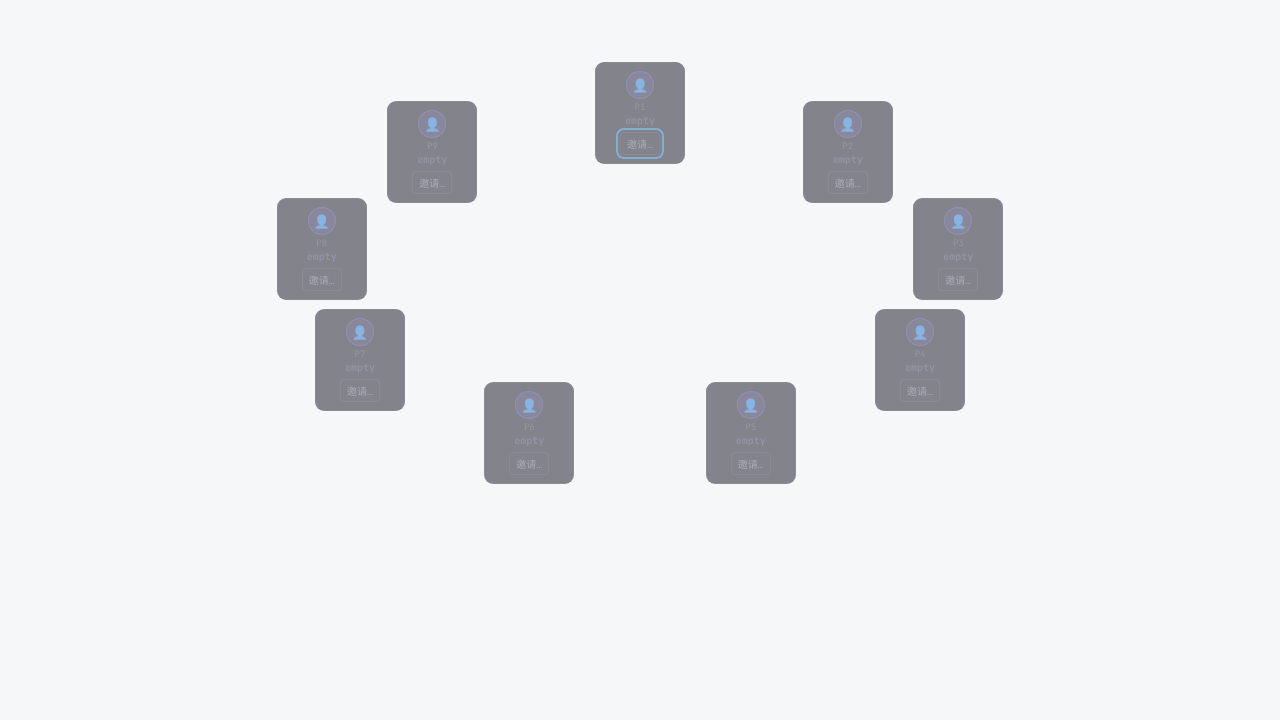
WerewolfTableSurface — popover focus restore (jsdom regression) › restores focus to the invite button when the popover closes via Escape
Click the 1st button with class "ww-seat-invite" at x=640, y=144, box [620, 132, 660, 155]
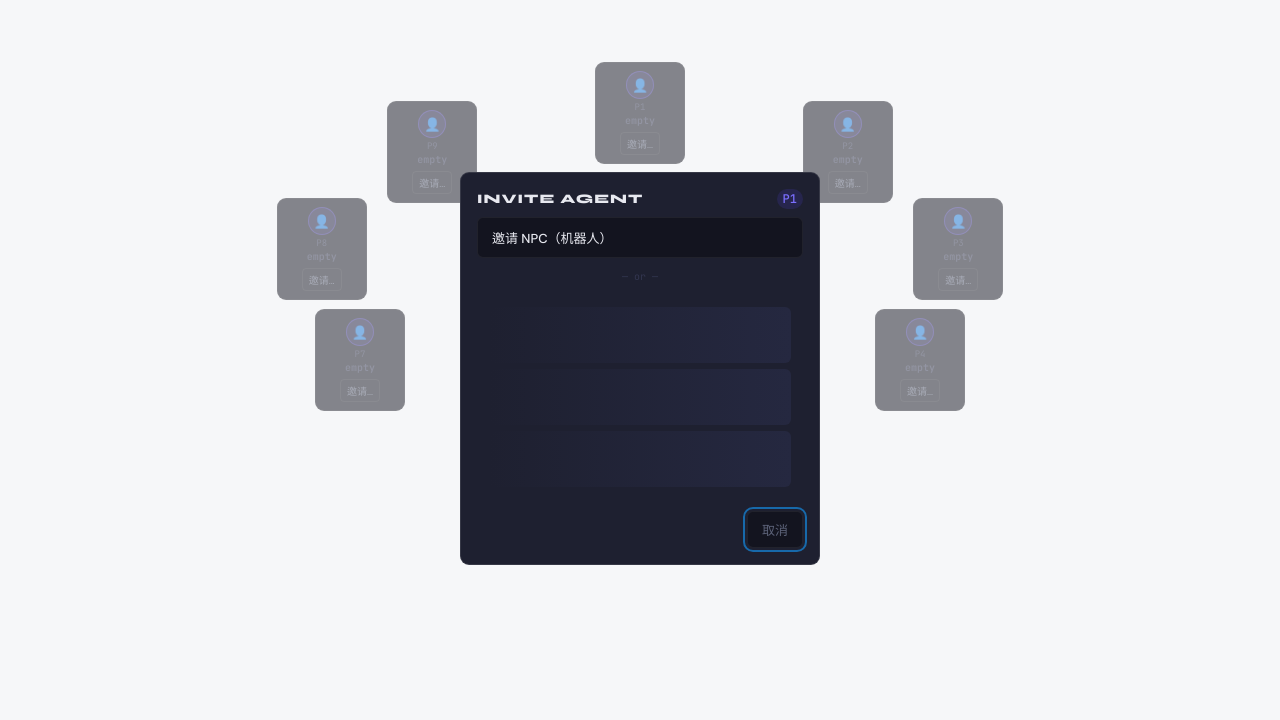
Result: the button with class "ww-agent-picker-cancel" is shown at [747, 511, 803, 548]
Close via Escape.
Press Escape
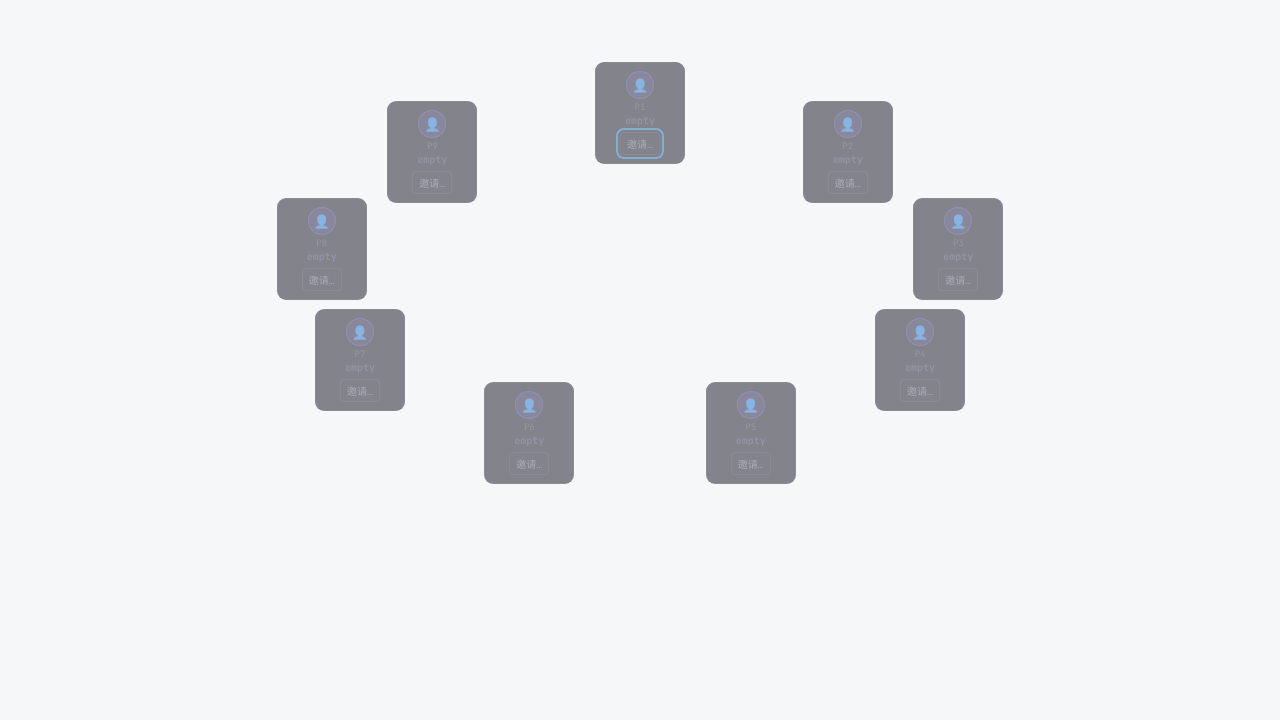
Result: the button with class "ww-agent-picker-cancel" is gone
